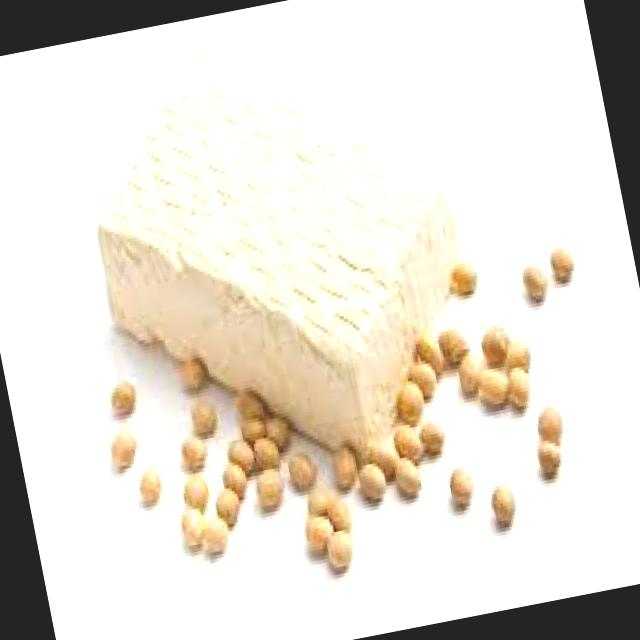tof: (72, 0, 515, 499)
